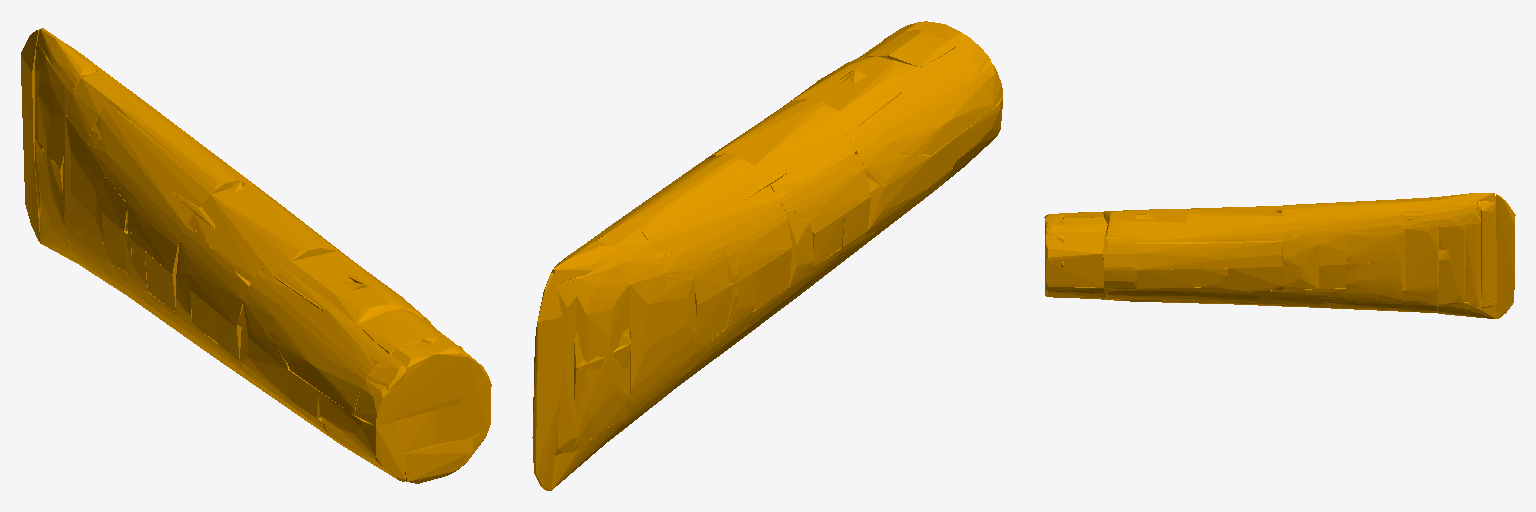
URDF robot description (tube-signal):
<?xml version="1.0" ?>
<robot name="tube-signal">
  <link name="baseLink">
    <contact>
      <lateral_friction value="1.0"/>
      <inertia_scaling value="3.0"/>
    </contact>
    <inertial>
      <origin rpy="0 0 0" xyz="0.000 0.000 0.000"/>
       <mass value=".1"/>
       <inertia ixx="1" ixy="0.0" ixz="0.0" iyy="1" iyz="0.0" izz="1"/>
    </inertial>
    <visual>
      <origin rpy="0 0 0" xyz="0 0 0"/>
      <geometry>
        <mesh filename="tube/tube-signal.obj" scale="1.0 1.0 1.0"/>
      </geometry>
    </visual>
    <collision>
      <origin rpy="0 0 0" xyz="0 0 0"/>
      <geometry>
        <mesh filename="../collision/tube/tube-signal.obj" scale="1.0 1.0 1.0"/>
      </geometry>
    </collision>
  </link>
</robot>
        

--- Render facts (derived) ---
The picture shows the robot from 3 angles, left to right: view 1: azimuth 30°, elevation 25°; view 2: azimuth 150°, elevation 25°; view 3: azimuth 270°, elevation 25°; orthographic projection.
Robot: tube-signal — 1 links, 0 joints (none); root link baseLink; default pose: all joints at 0.
Links seen in each view (by area): view 1: baseLink; view 2: baseLink; view 3: baseLink.
Boxes of the visible links, <box> form: baseLink: <box>21,28,491,483</box>; baseLink: <box>532,21,1002,490</box>; baseLink: <box>1044,193,1515,318</box>.
Size in the robot's own frame: 0.0273 by 0.1456 by 0.0428 metres.
Meshes: 1 distinct files referenced, 1 mesh visuals loaded (1 OBJ).